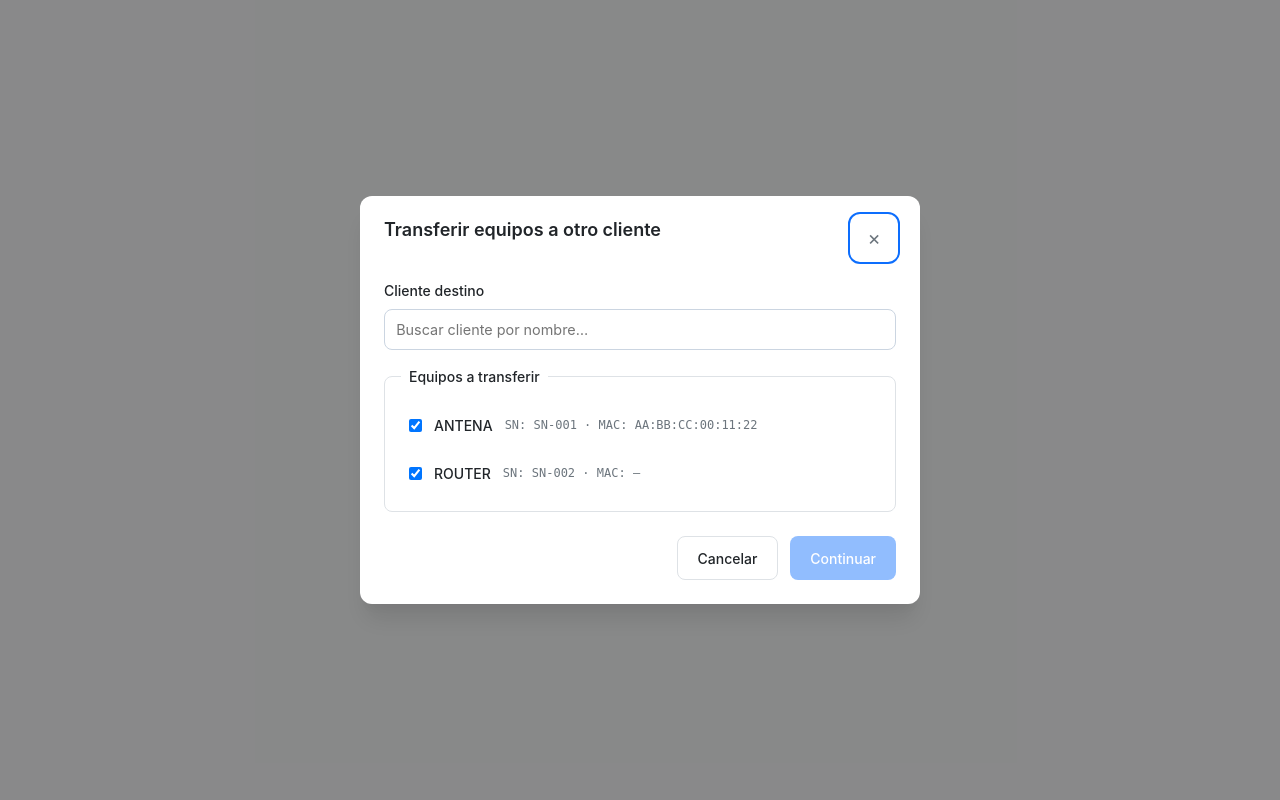
Test: TSM-8: Equipos → checkboxes default todos marcados + deselección › con todo deseleccionado no deja continuar
The image size is (1280, 800).
In the field with placeholder "Buscar cliente por nombre…": (640, 330) [384, 309, 896, 350], type "María"
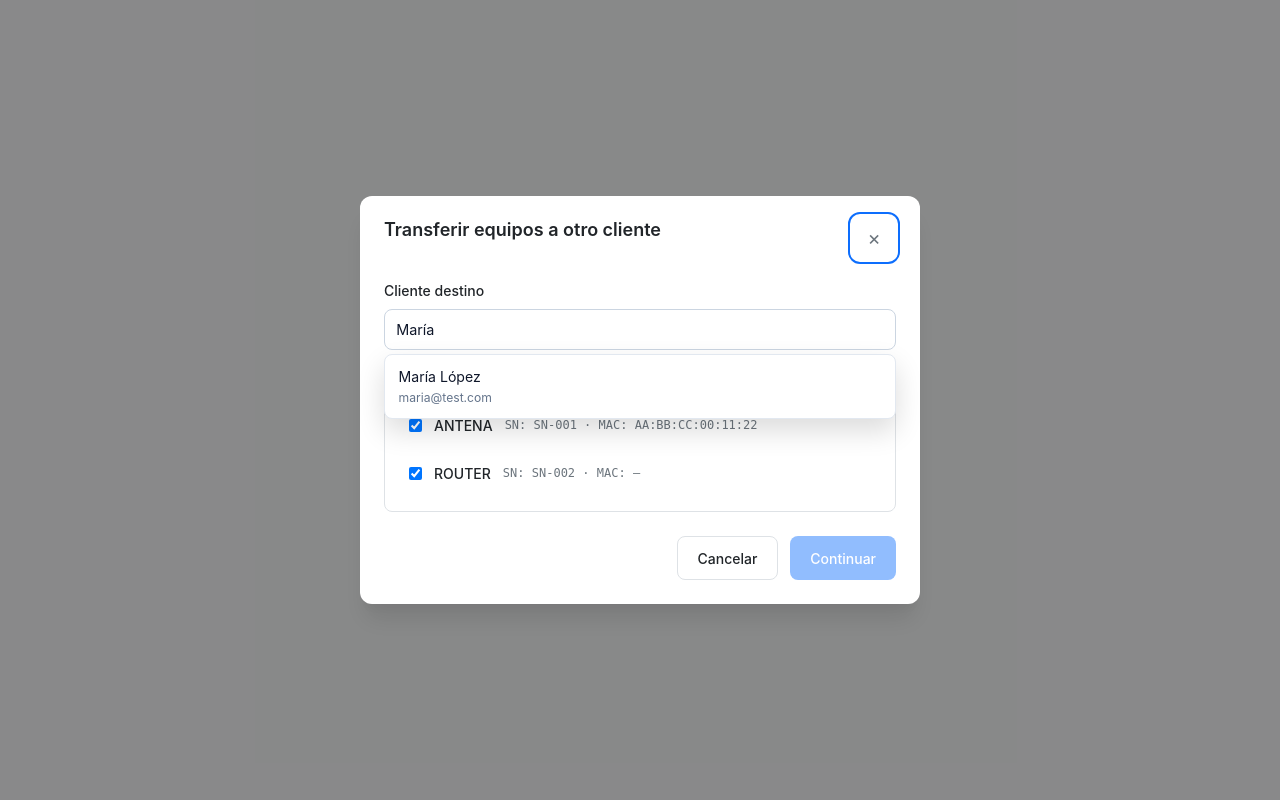
Click the text "María López": (440, 377) [399, 366, 481, 387]
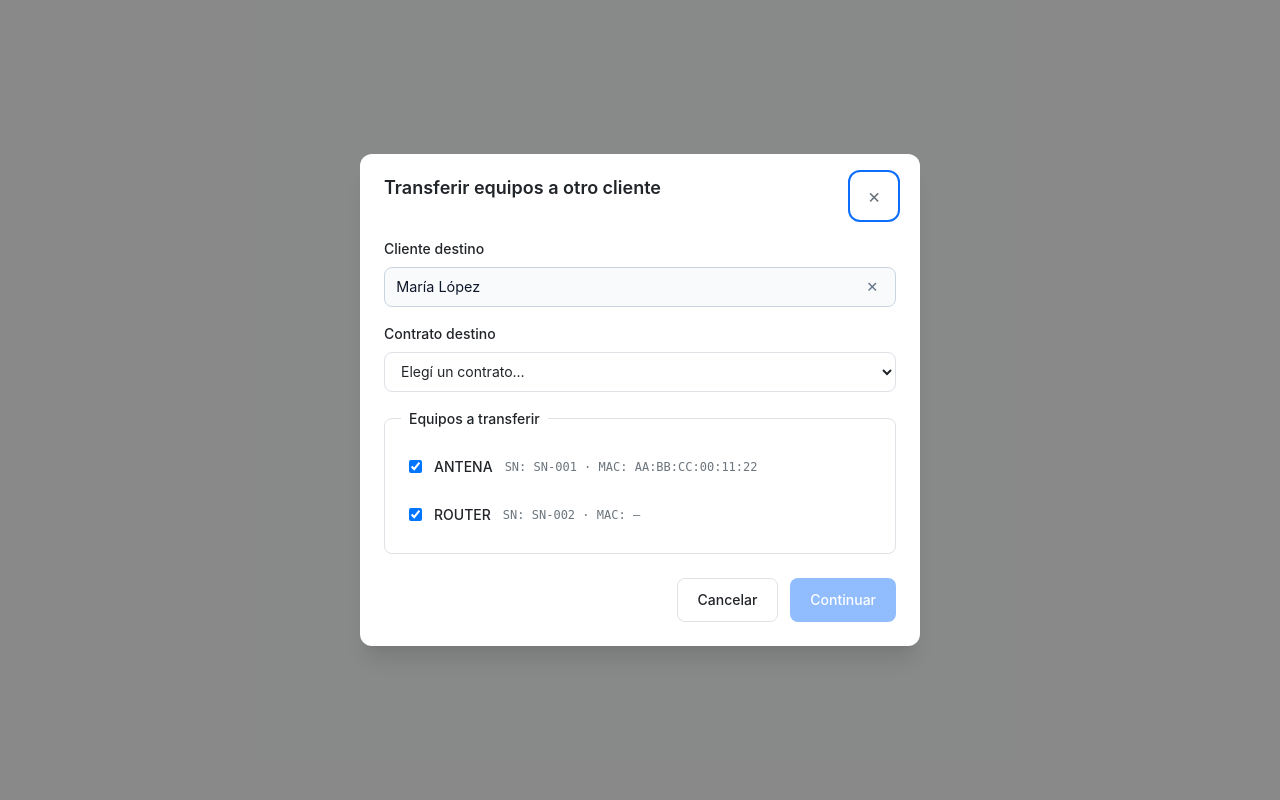
Select "Plan 50M — Calle Falsa 123 · Activo" in the dropdown labelled "Contrato destino": (640, 372) [384, 352, 896, 392]
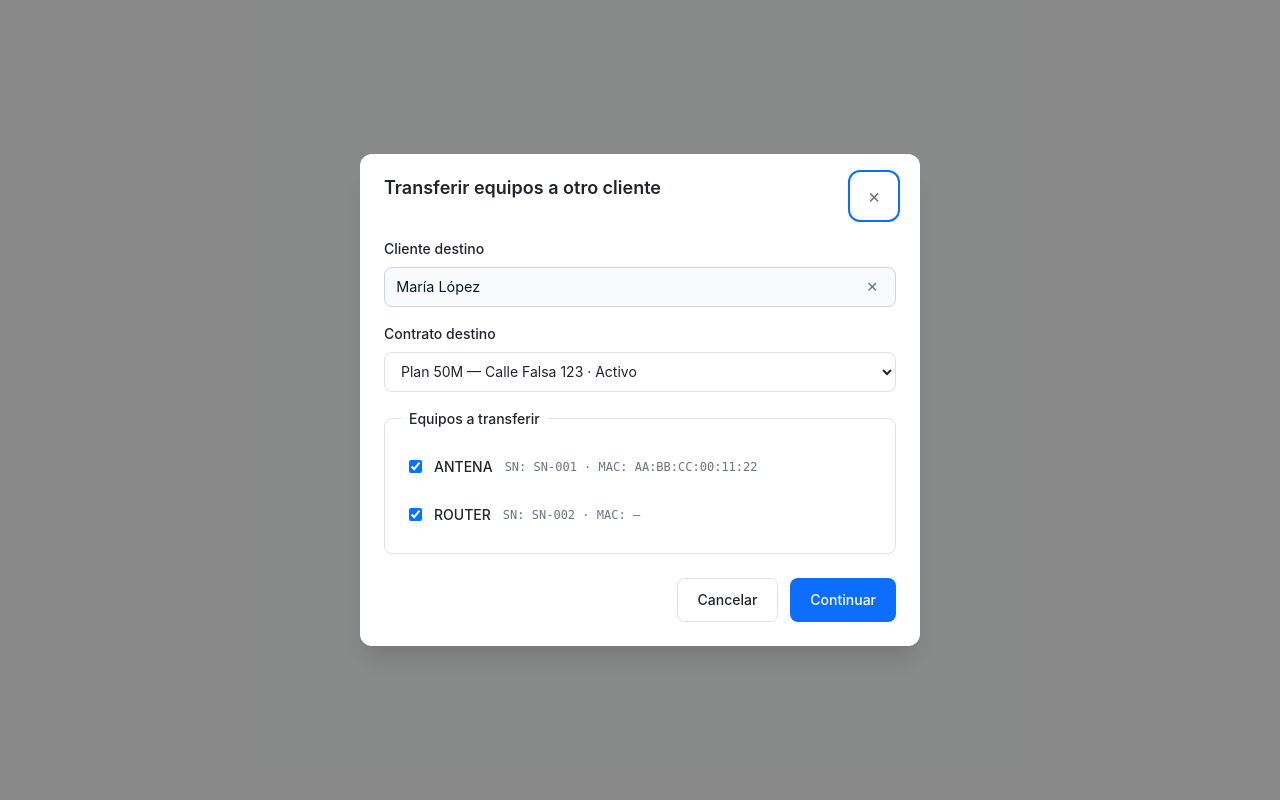
Click the checkbox labelled "ANTENA SN: SN-001 · MAC: AA:BB:CC:00:11:22": (416, 467) [409, 460, 422, 473]
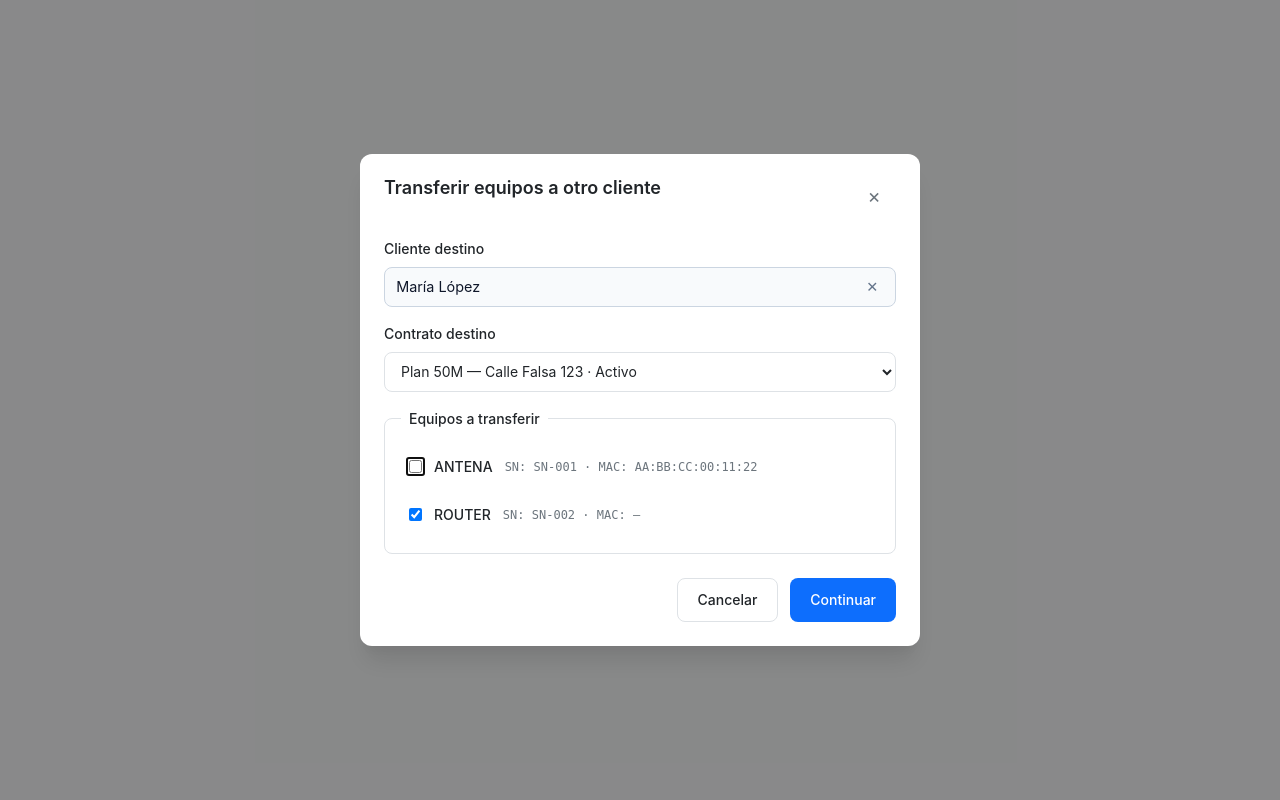
Click the checkbox labelled "ROUTER SN: SN-002 · MAC: —": (416, 515) [409, 508, 422, 521]
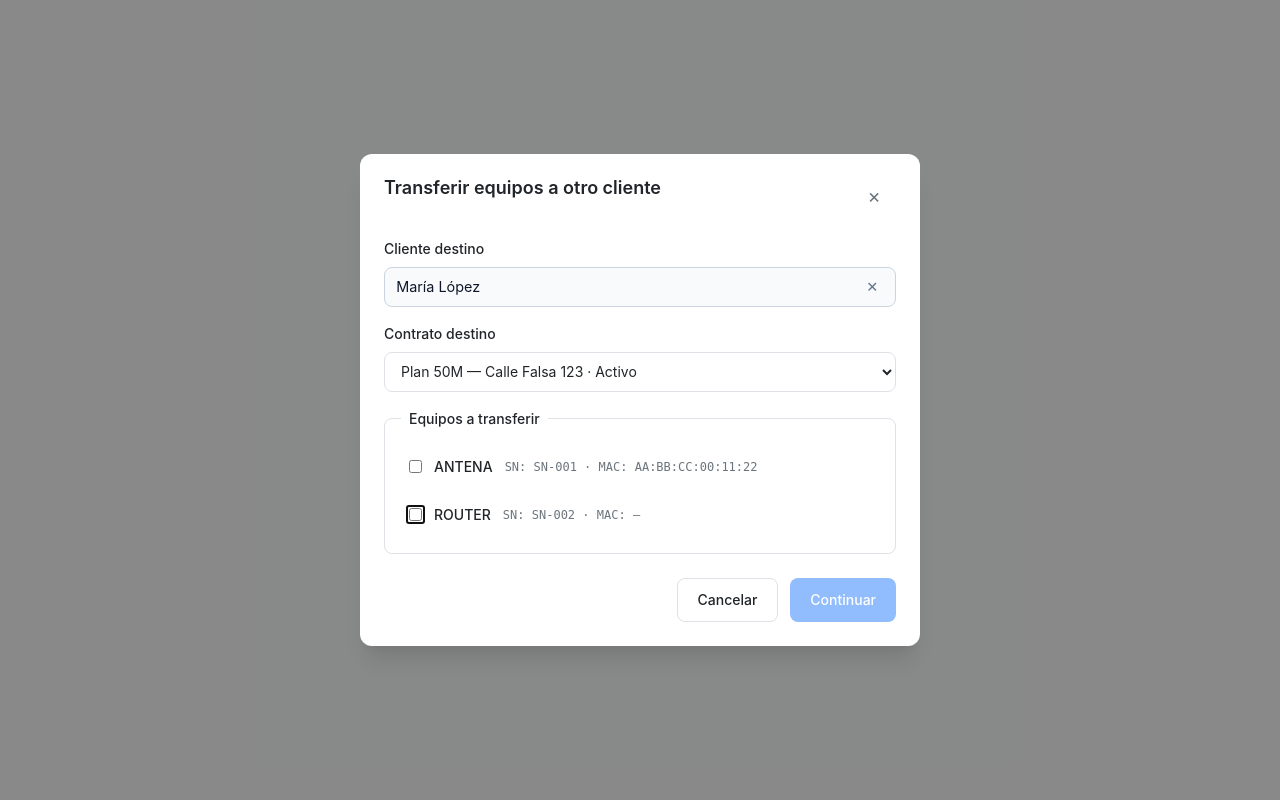
expect the button "Continuar" is disabled: met, box [790, 578, 896, 622]
